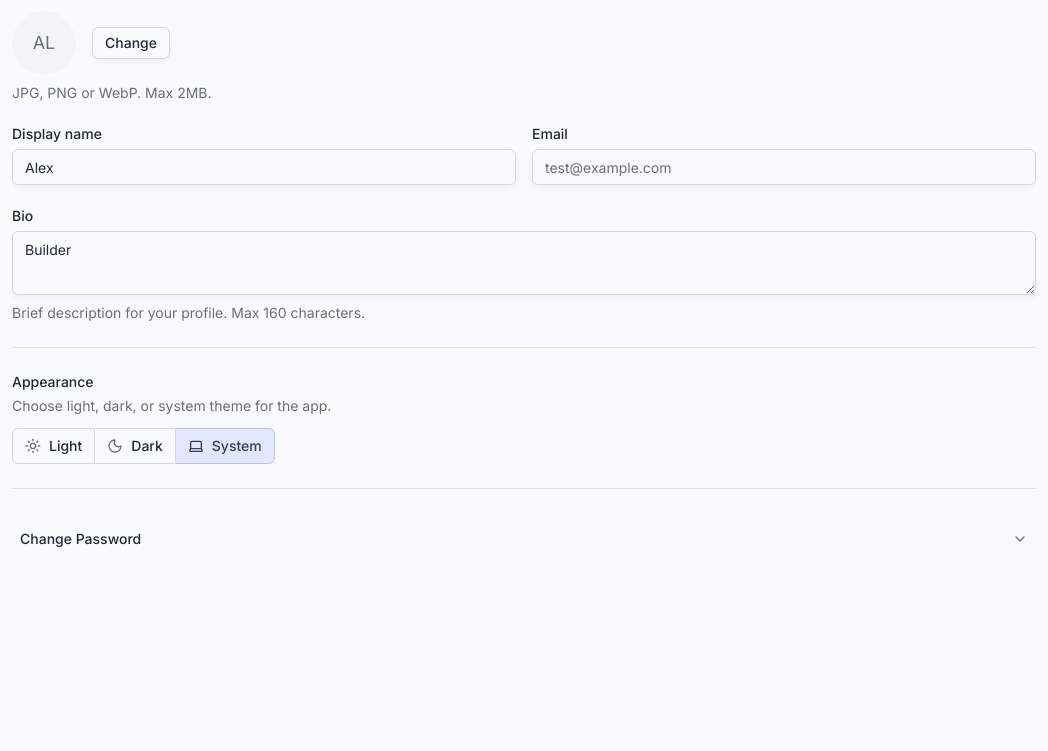
Scenario: ProfileModalContent › should keep password collapsed by default and reveal fields on expand
The image size is (1048, 751).
Check: the field labelled "current password" is not shown
What coordinates should you click on to do the following:
click the button "Change Password"
I would click on:
 (81, 538)
Its box is [12, 513, 1036, 565].
(page scrolled)
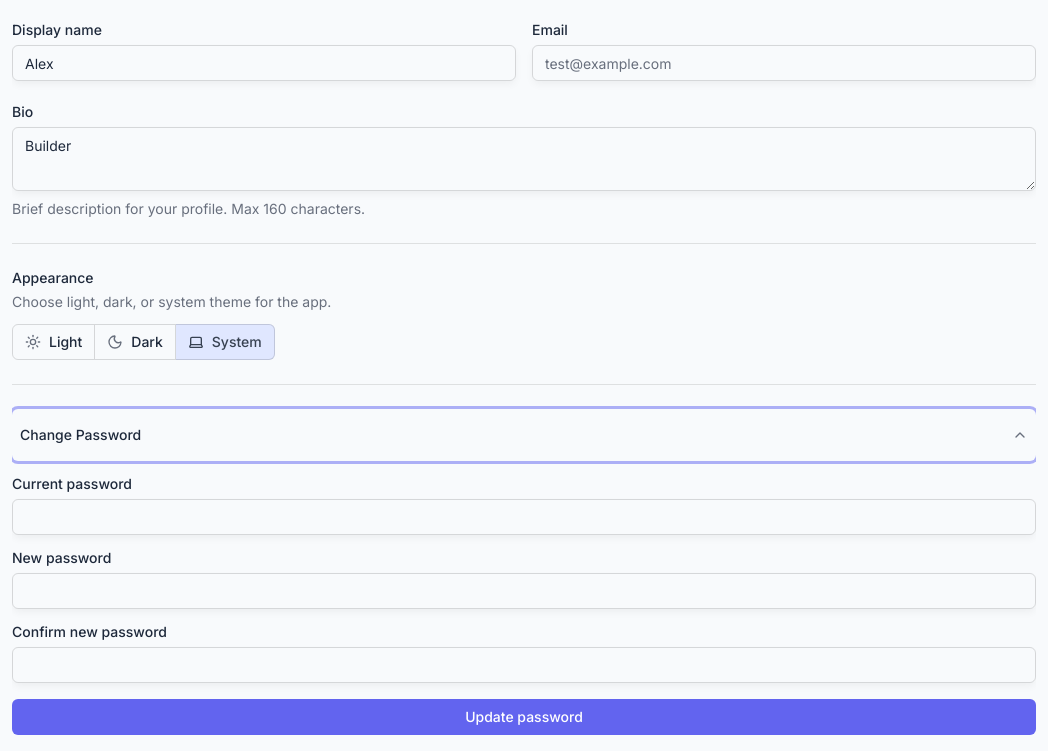
Check: the password field labelled "Current password" is shown, box [12, 499, 1036, 535]
